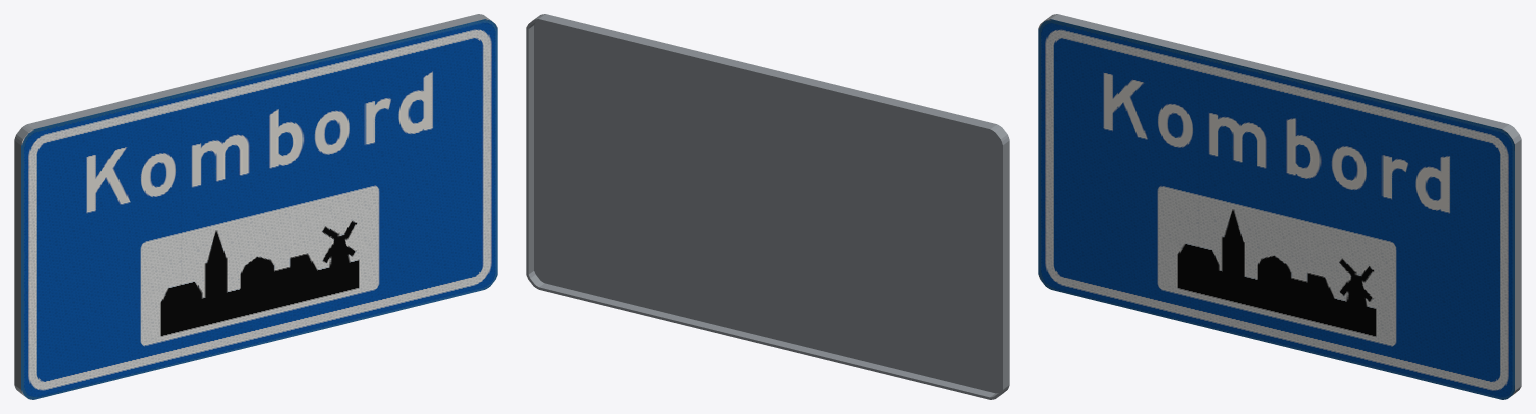
The picture shows the model from 3 angles, left to right: view 1: azimuth 30°, elevation 25°; view 2: azimuth 150°, elevation 25°; view 3: azimuth 330°, elevation 25°; orthographic projection.
Visible parts, largest first — view 1: cat_214f9d209651c367; view 2: cat_214f9d209651c367; view 3: cat_214f9d209651c367.
Part boxes in pixels (x1,y1,x2,y2): cat_214f9d209651c367: (14,14,497,399); cat_214f9d209651c367: (526,14,1009,399); cat_214f9d209651c367: (1038,14,1521,399).
Bounding box in the file's own units: 0.6 × 0.015 × 0.3256.
2 materials, 1 textured.
